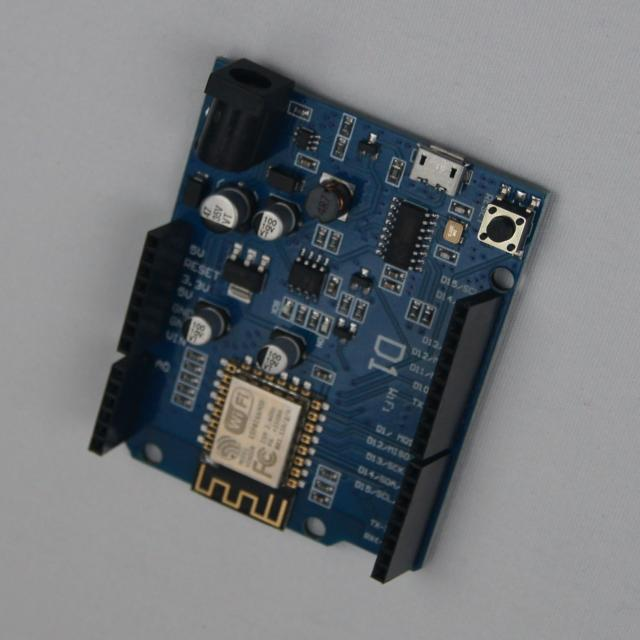Arduino Uno WiFi Shield: (90, 58, 548, 583)
